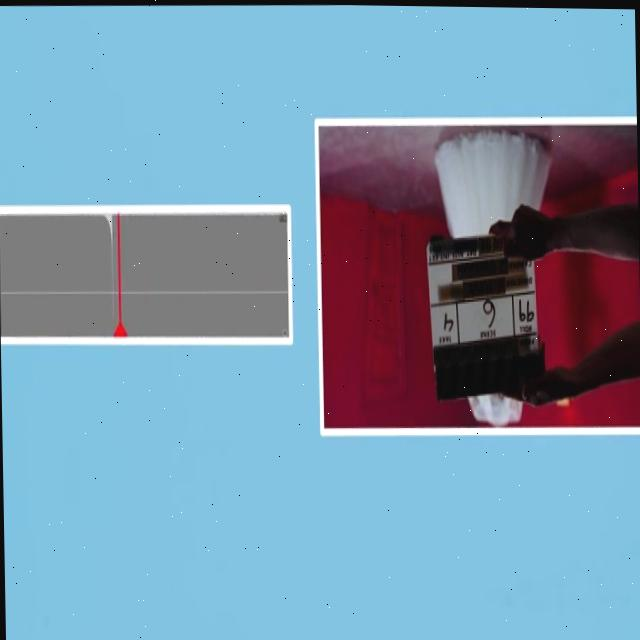Clapperboard: (425, 227, 544, 402)
